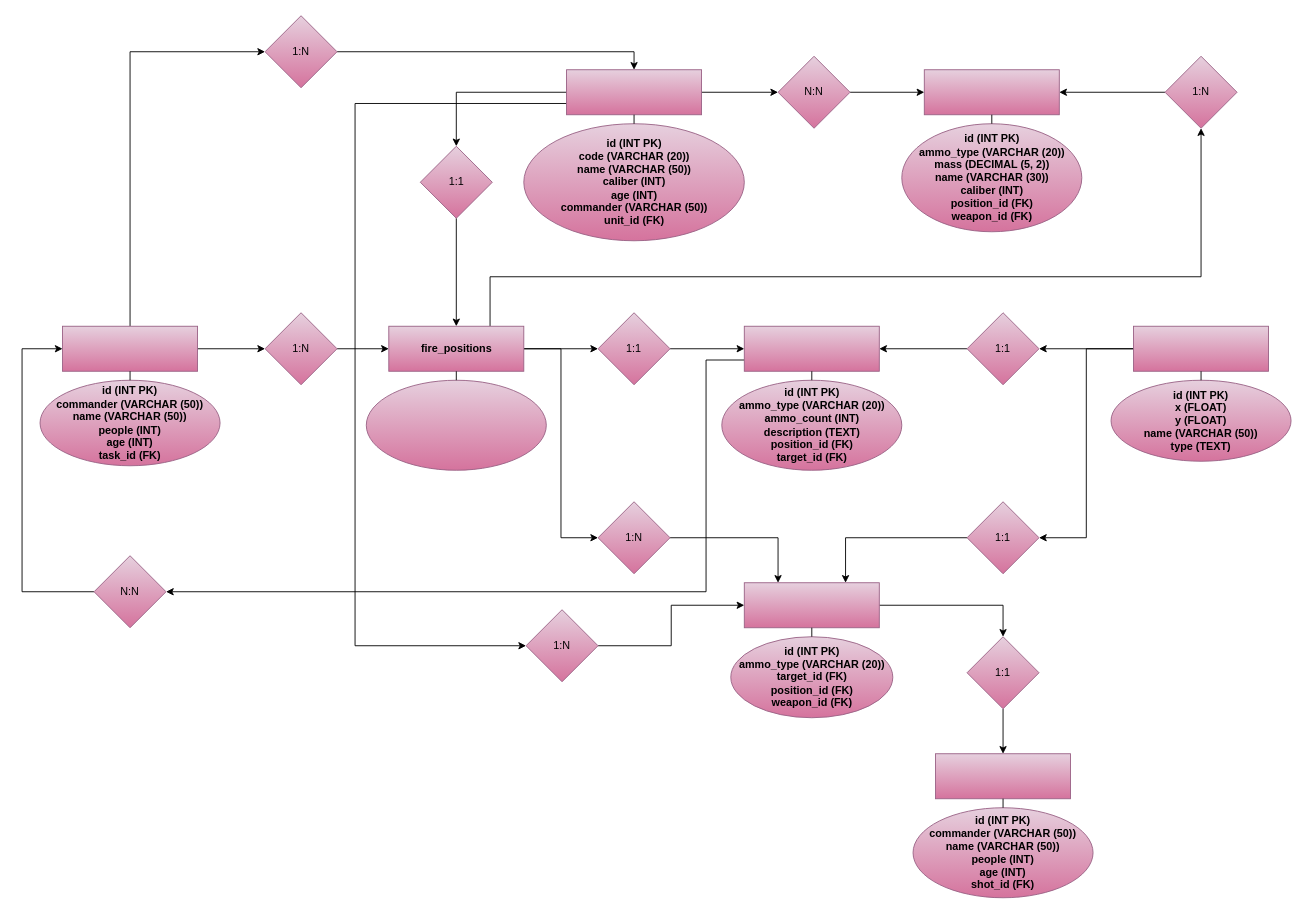
Image size: 1307x914. Some labels were removed from this diagram. Each missing label, with the centre of its shape:
"ammo" belongs at [991,92].
"corections" belongs at [1003,776].
"fire_tasks" belongs at [811,348].
"id (INT PK) x (FLOAT) y (FLOAT) name (VARCHAR (50)) unit_id (FK) weapon_id (FK)" belongs at [455,424].
"shots" belongs at [811,605].
"targets" belongs at [1201,348].
"units" belongs at [130,348].
"weapons" belongs at [634,92].
